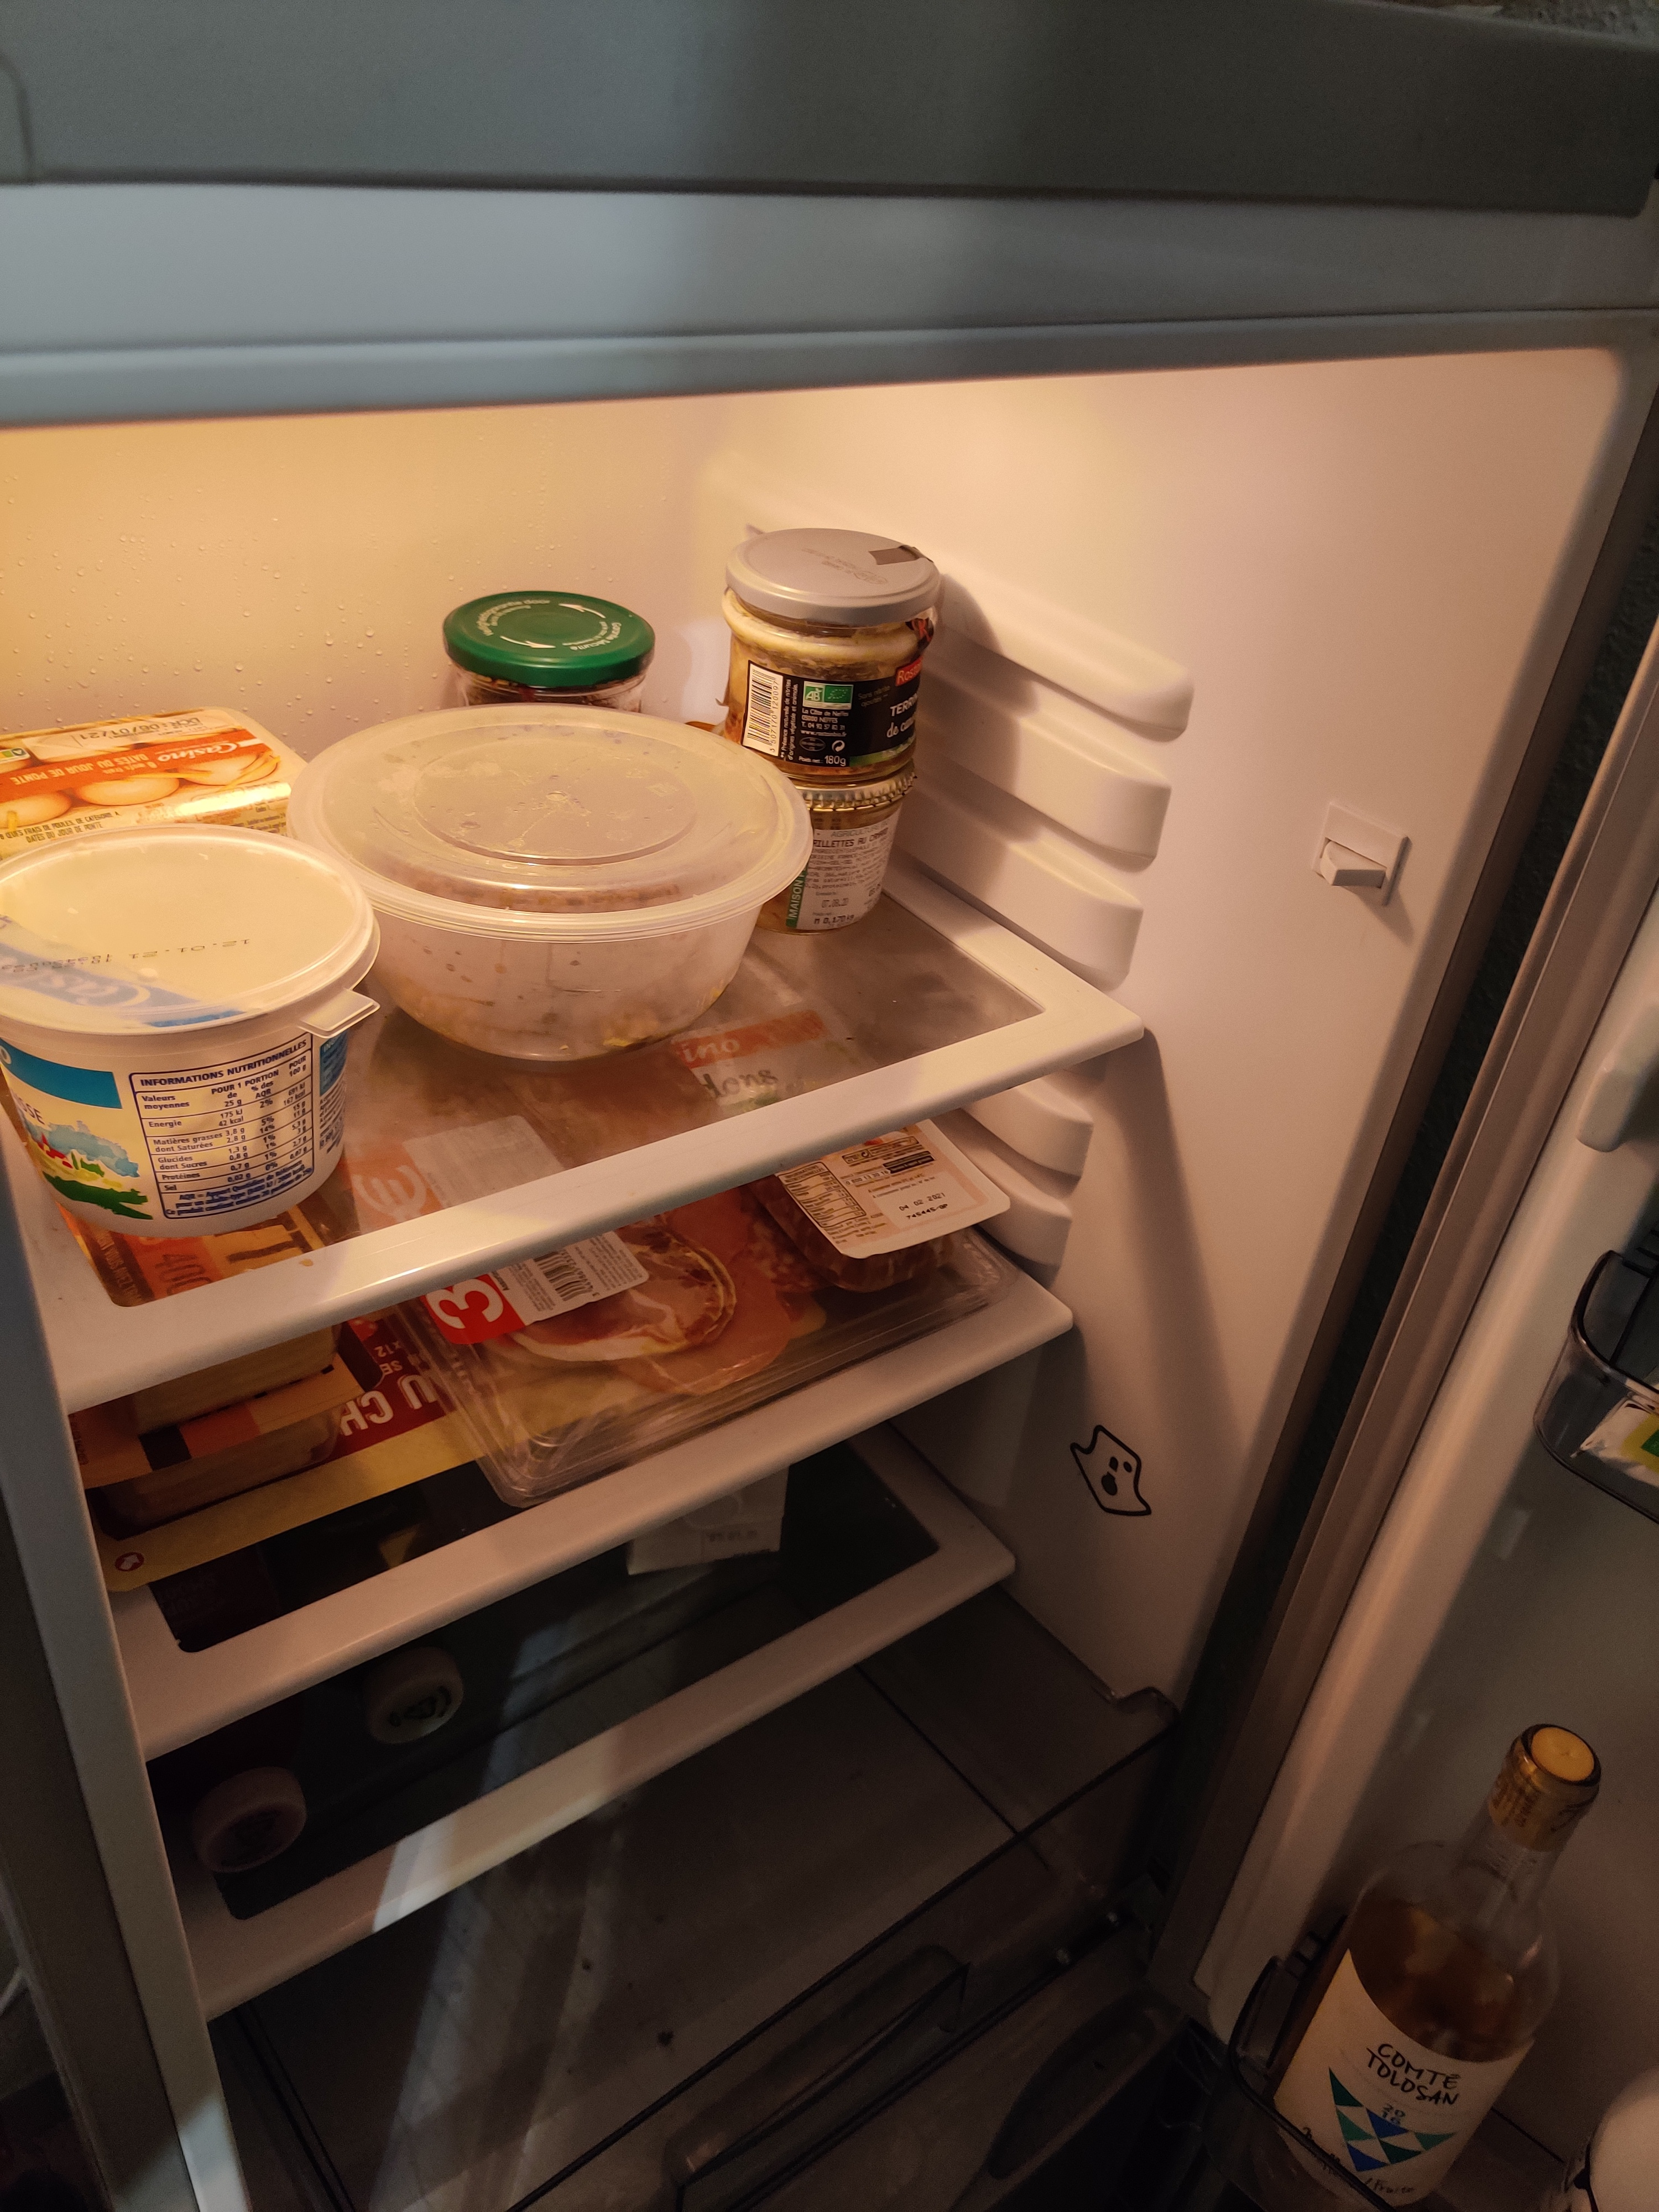bottle: (1291, 1717, 1596, 2212)
